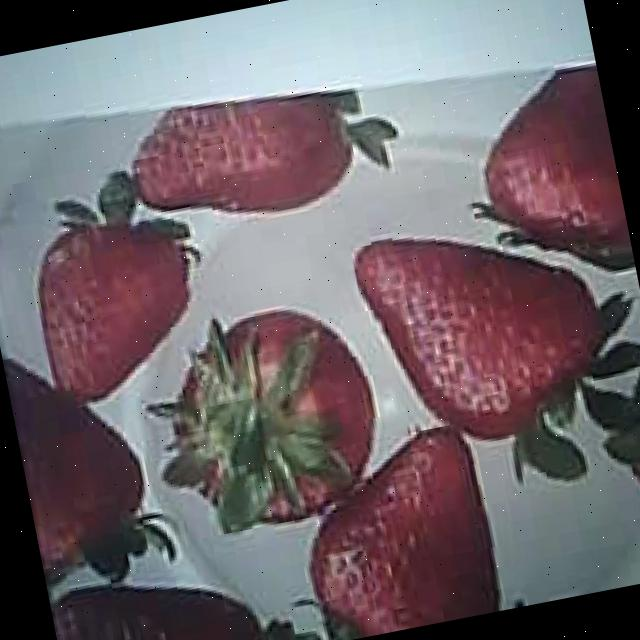strawberry: (352, 202, 620, 461), (285, 421, 499, 640), (122, 77, 364, 239), (20, 208, 210, 412)
